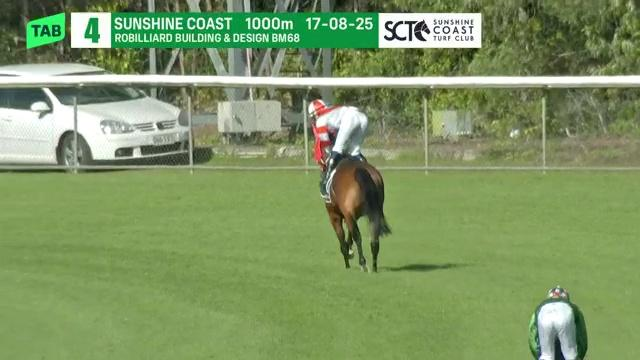racing-horse: (298, 88, 406, 282), (518, 280, 602, 360)
